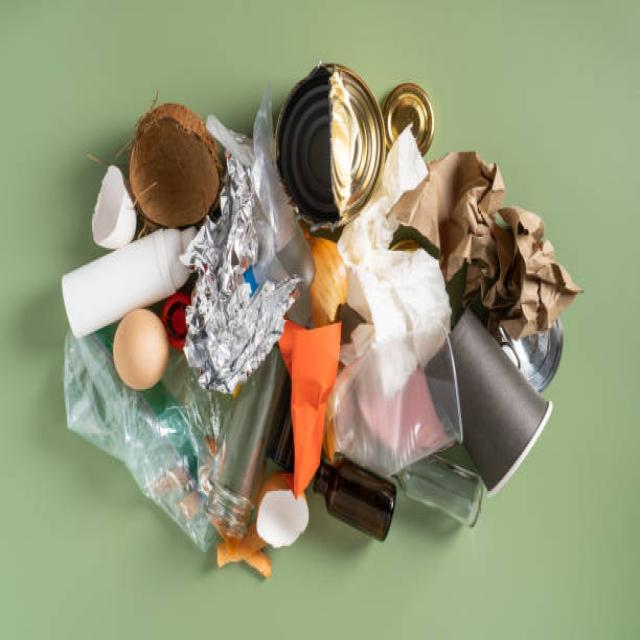metal: (268, 28, 450, 225)
plastic: (362, 243, 561, 486)
